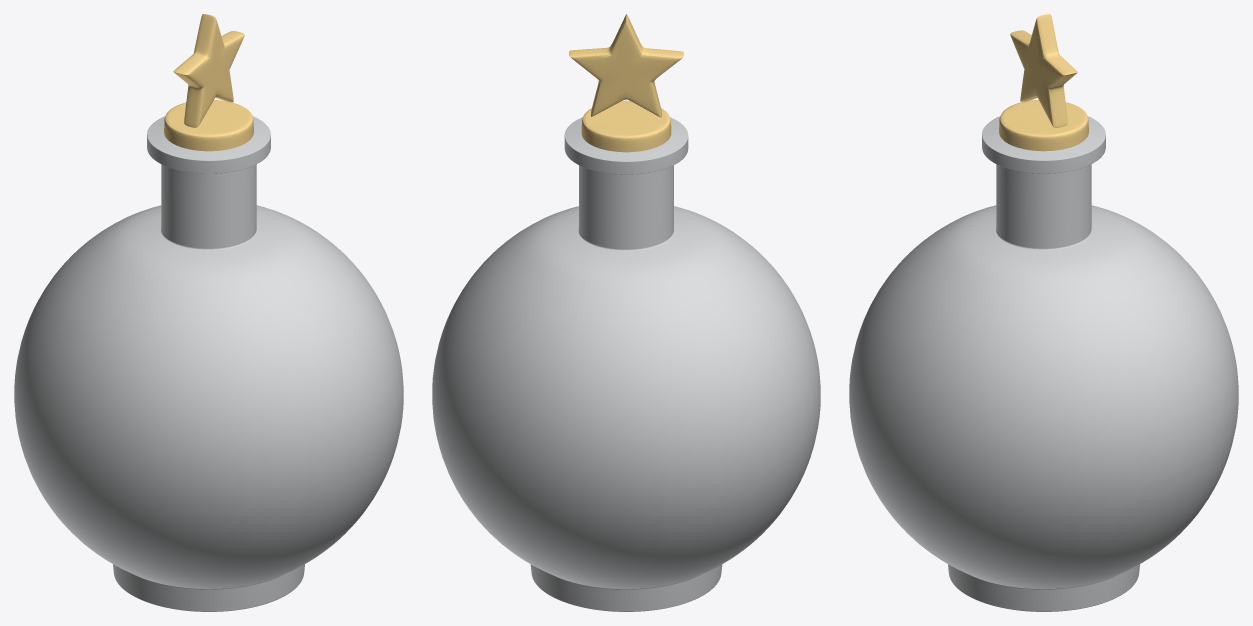
File: starlightelixir.glb
3 views of the same model, side by side, from view 1: azimuth 30°, elevation 25°; view 2: azimuth 150°, elevation 25°; view 3: azimuth 270°, elevation 25° (orthographic).
Visible parts, largest first — view 1: StarlightElixir_Glass, StarlightElixir_StarStopper, StarlightElixir_Cork; view 2: StarlightElixir_Glass, StarlightElixir_StarStopper, StarlightElixir_Cork; view 3: StarlightElixir_Glass, StarlightElixir_StarStopper, StarlightElixir_Cork.
Part boxes in pixels (x1,y1,x2,y2): StarlightElixir_Glass: (14, 116, 403, 611); StarlightElixir_StarStopper: (173, 14, 244, 127); StarlightElixir_Cork: (164, 100, 253, 151); StarlightElixir_Glass: (432, 117, 820, 611); StarlightElixir_StarStopper: (569, 14, 683, 117); StarlightElixir_Cork: (581, 100, 671, 152); StarlightElixir_Glass: (849, 116, 1238, 611); StarlightElixir_StarStopper: (1010, 14, 1077, 127); StarlightElixir_Cork: (999, 100, 1088, 151).
Bounding box in the file's own units: 1.63 × 2.57 × 1.63.
